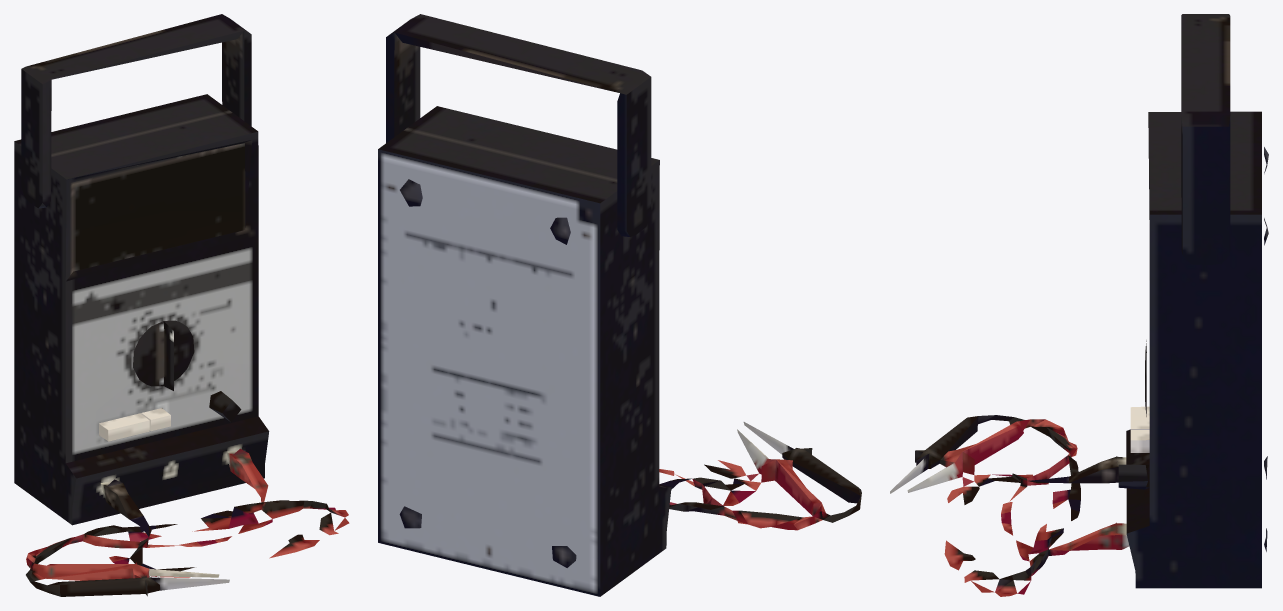
File: retro_multimeter.glb
3 views of the same model, side by side, from view 1: azimuth 30°, elevation 25°; view 2: azimuth 150°, elevation 25°; view 3: azimuth 270°, elevation 25° (orthographic). The views are drawn at different scales.
Parts seen in each view (by area): view 1: mesh; view 2: mesh; view 3: mesh.
Part boxes in pixels (bbox=[...]): mesh: bbox=[14, 14, 349, 596]; mesh: bbox=[378, 14, 861, 596]; mesh: bbox=[890, 14, 1268, 596].
Size of the model in its own units: 0.2146 by 0.2786 by 0.2023.
Materials: 1 (1 with a texture image).
